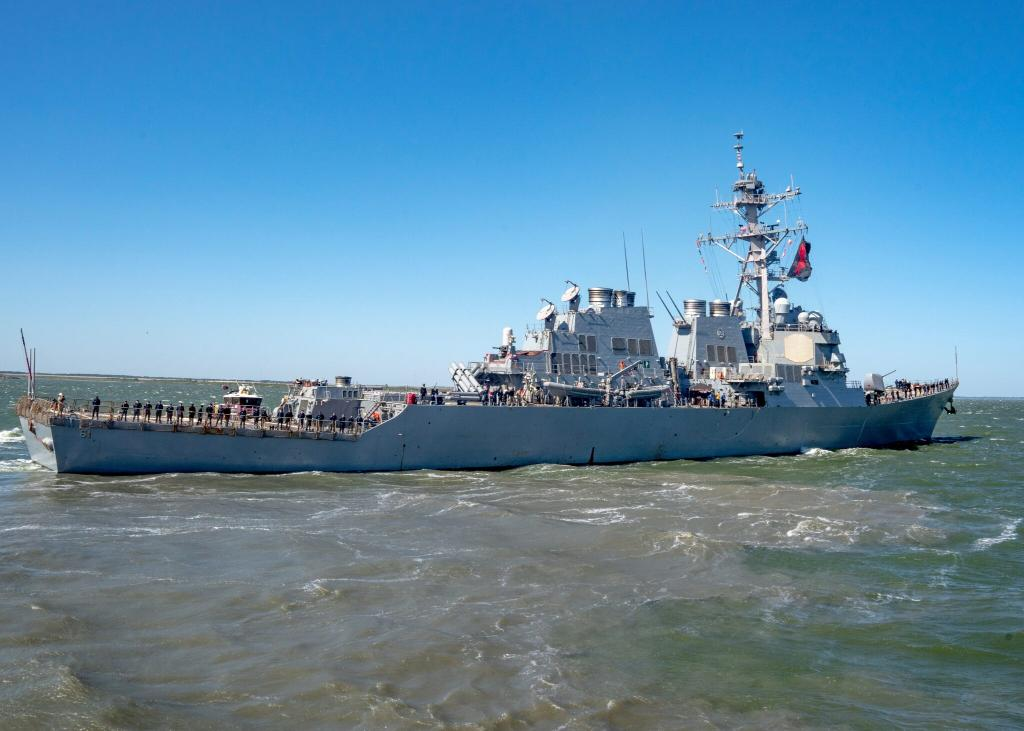Warship: (23, 116, 969, 484)
